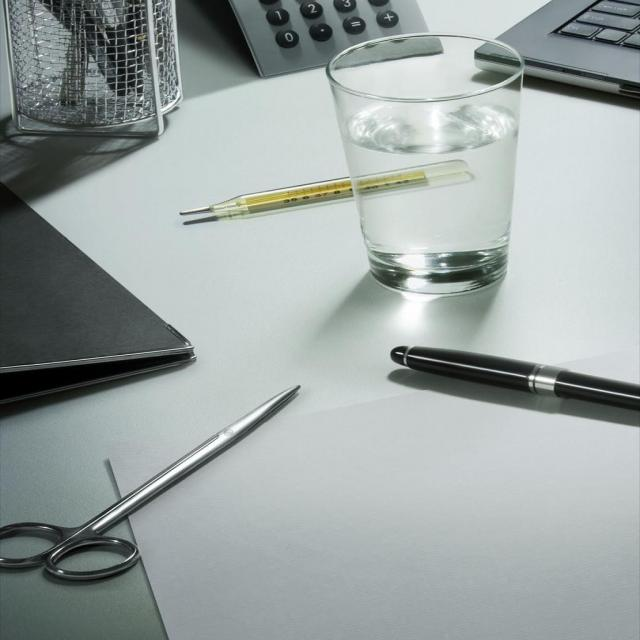scissor: (0, 379, 299, 586)
